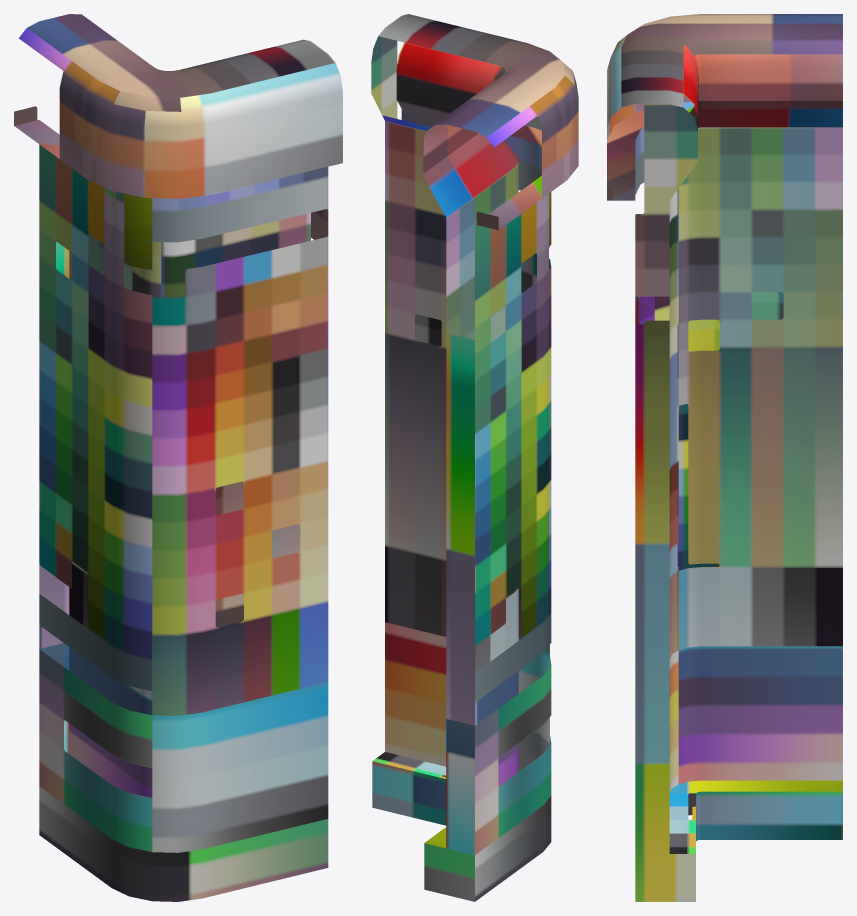
The model's file is Wall_Corner_2.fbx.
3 renders of one model, left to right at view 1: azimuth 30°, elevation 25°; view 2: azimuth 150°, elevation 25°; view 3: azimuth 270°, elevation 25°, orthographic. The views are drawn at different scales.
Parts seen in each view (by area): view 1: Wall_Corner_2; view 2: Wall_Corner_2; view 3: Wall_Corner_2.
Boxes of the visible parts, box(x1,y1,x2,y2) form: Wall_Corner_2: box(14, 14, 342, 901); Wall_Corner_2: box(371, 14, 578, 901); Wall_Corner_2: box(607, 14, 842, 901).
Size of the model in its own units: 83.02 by 310 by 83.02.
